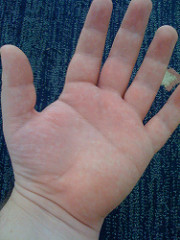palm: (25, 94, 147, 198)
